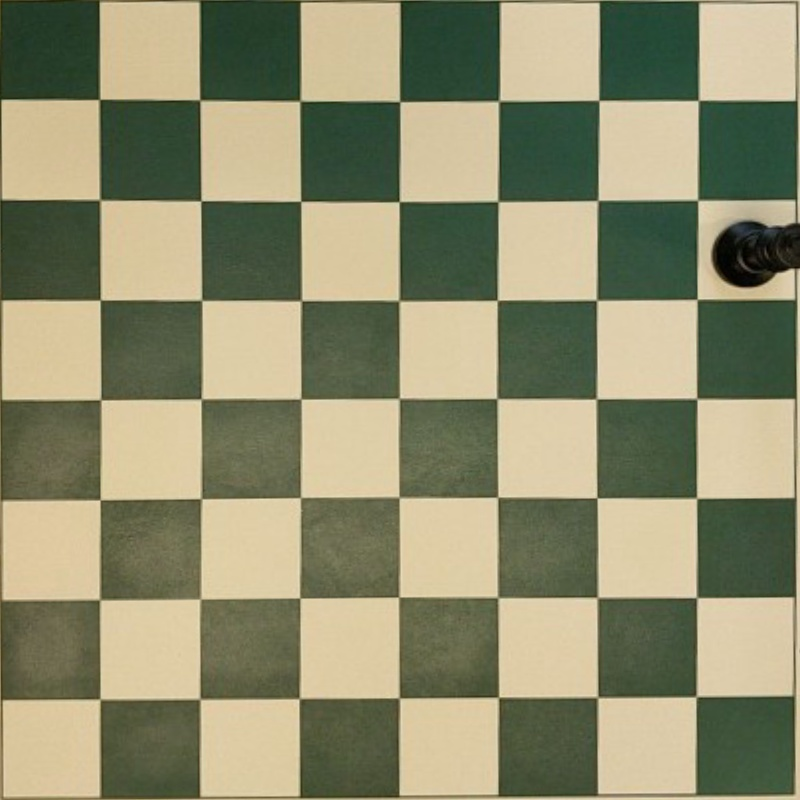black-king: (714, 218, 800, 287)
